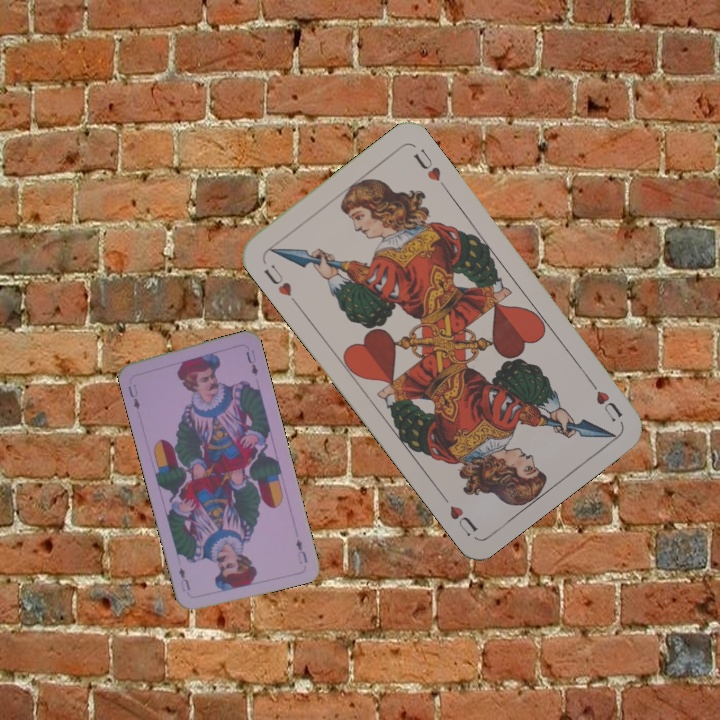EU: (292, 535, 310, 567), (124, 382, 142, 412)
HU: (584, 374, 625, 424), (260, 260, 295, 299)
